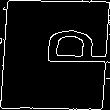P_W: (6, 35, 104, 75)
